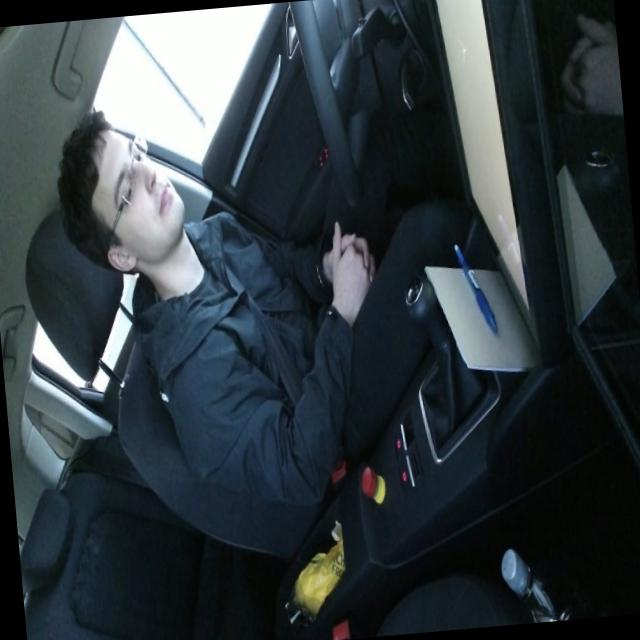pen: (452, 238, 498, 336)
